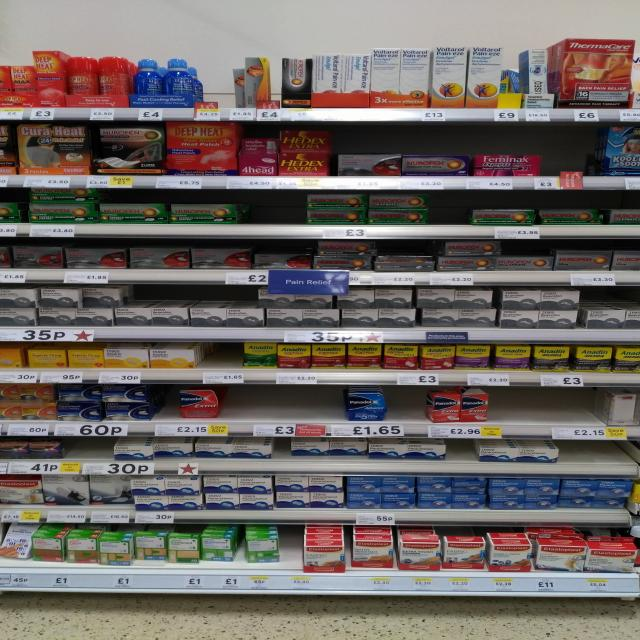empty_space: (342, 130, 594, 154), (225, 387, 347, 419), (493, 390, 591, 423), (136, 285, 261, 301), (567, 443, 625, 465), (243, 204, 309, 223), (388, 393, 427, 419), (76, 437, 116, 459), (206, 345, 246, 367), (546, 153, 590, 171), (203, 77, 233, 103), (283, 530, 305, 563), (431, 205, 469, 223), (583, 287, 635, 297), (448, 442, 476, 460)
